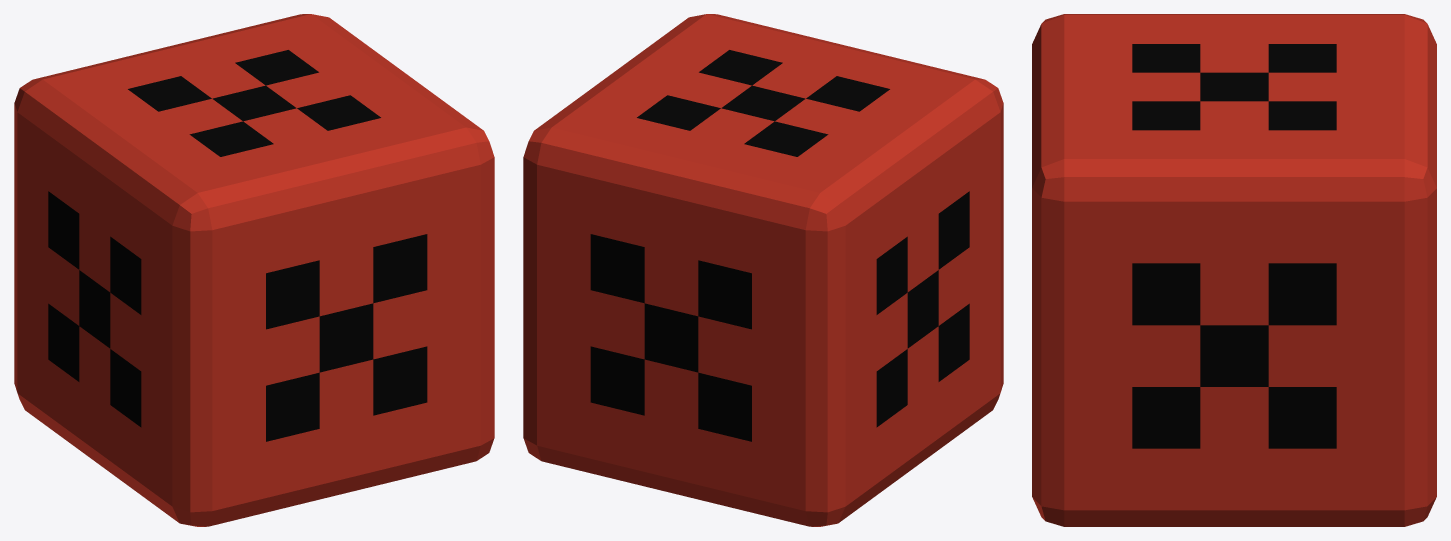
Rendered from constant_red.fbx.
3 views of the same model, side by side, from view 1: azimuth 30°, elevation 25°; view 2: azimuth 150°, elevation 25°; view 3: azimuth 270°, elevation 25° (orthographic). The views are drawn at different scales.
Visible parts, largest first — view 1: Cube; view 2: Cube; view 3: Cube.
Part boxes in pixels (x1=…): Cube: x1=14, y1=14, x2=494, y2=526; Cube: x1=523, y1=14, x2=1003, y2=526; Cube: x1=1032, y1=14, x2=1436, y2=526.
Size of the model in its own units: 200 by 200 by 200.
